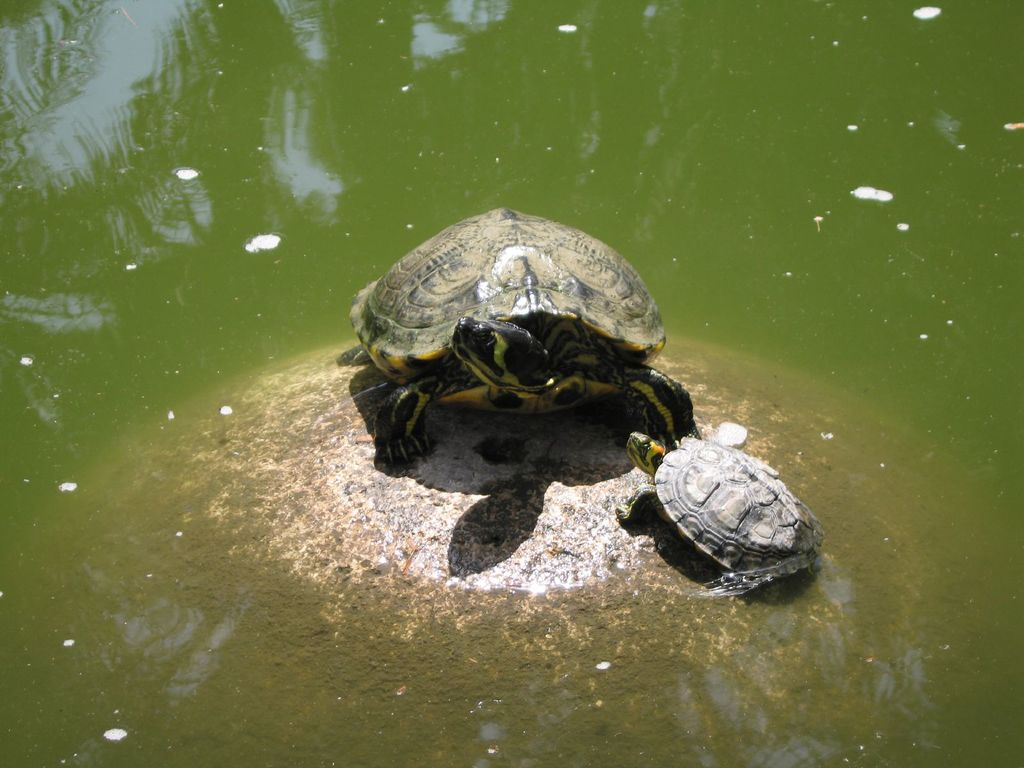Sea turtles: (342, 204, 699, 473), (610, 420, 826, 601)
